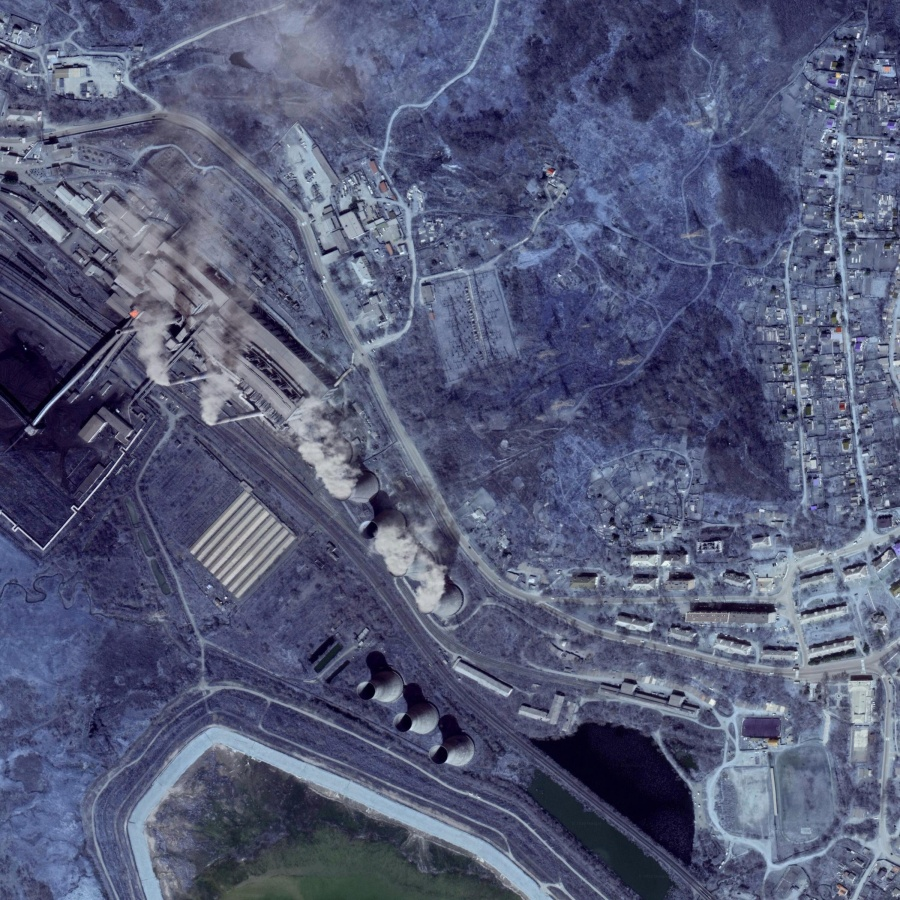PowerPlant: (295, 406, 509, 779)
